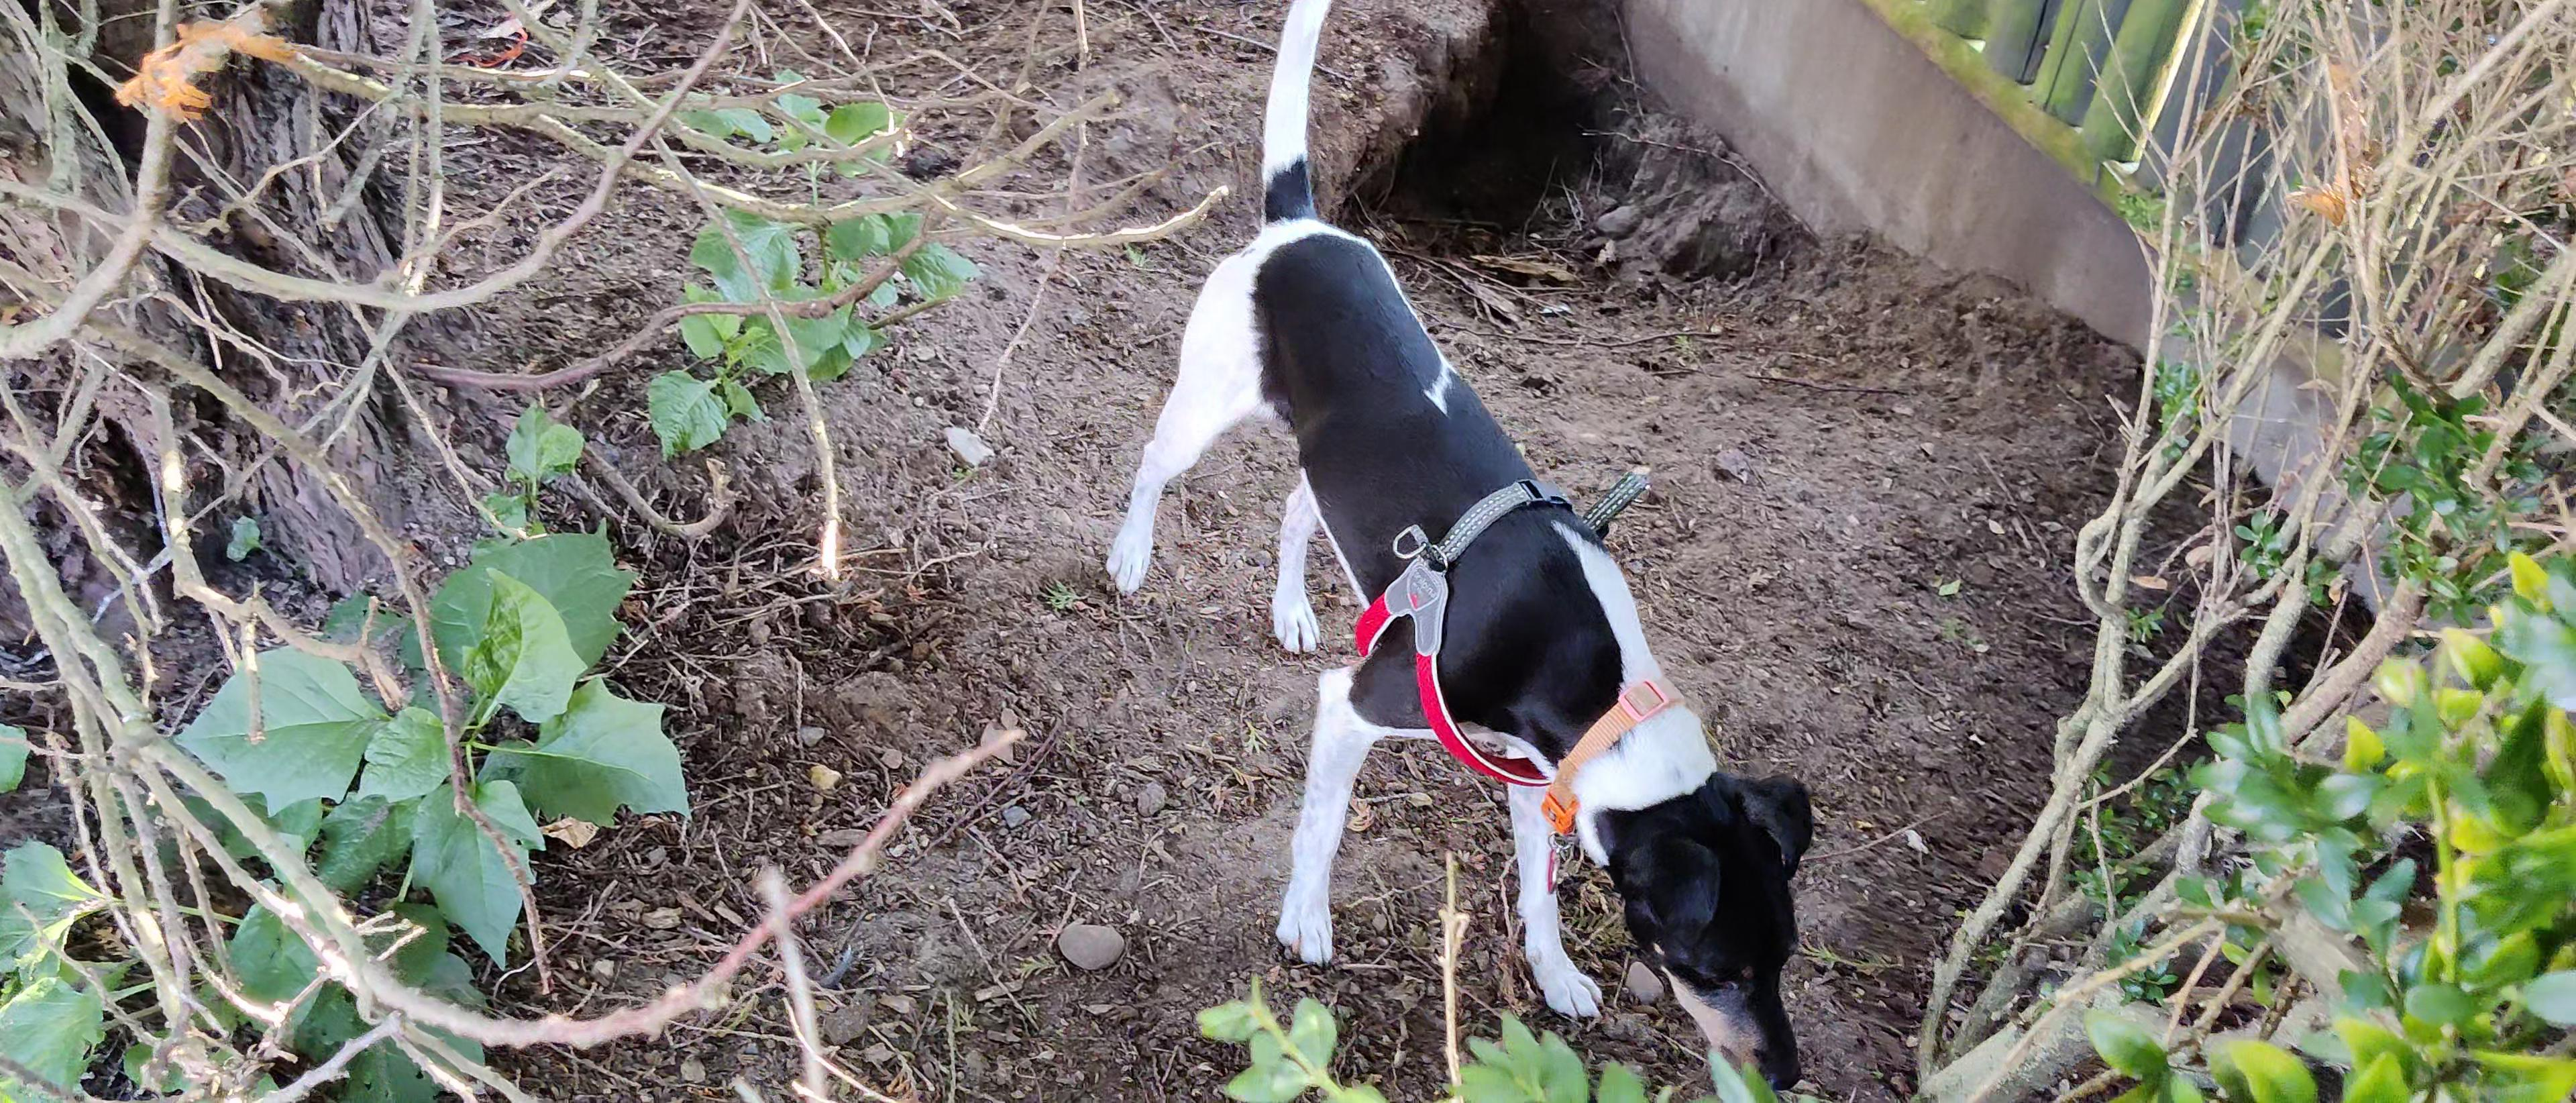Dog: (1084, 0, 1830, 1096)
